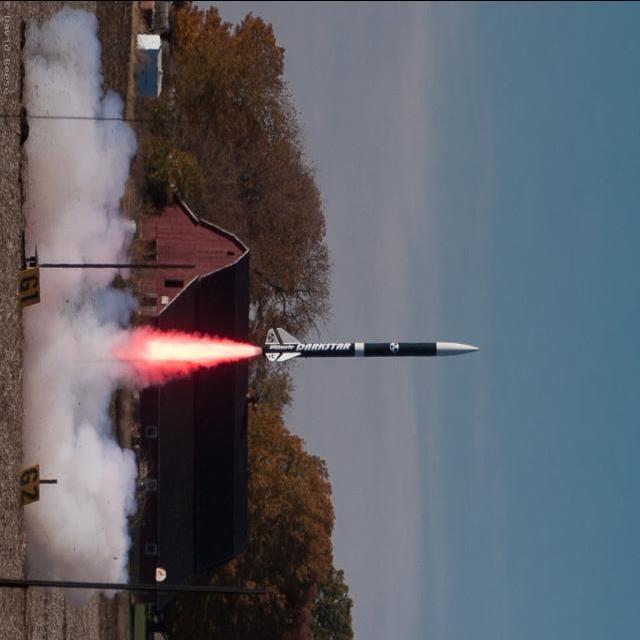missile: (258, 320, 480, 363)
